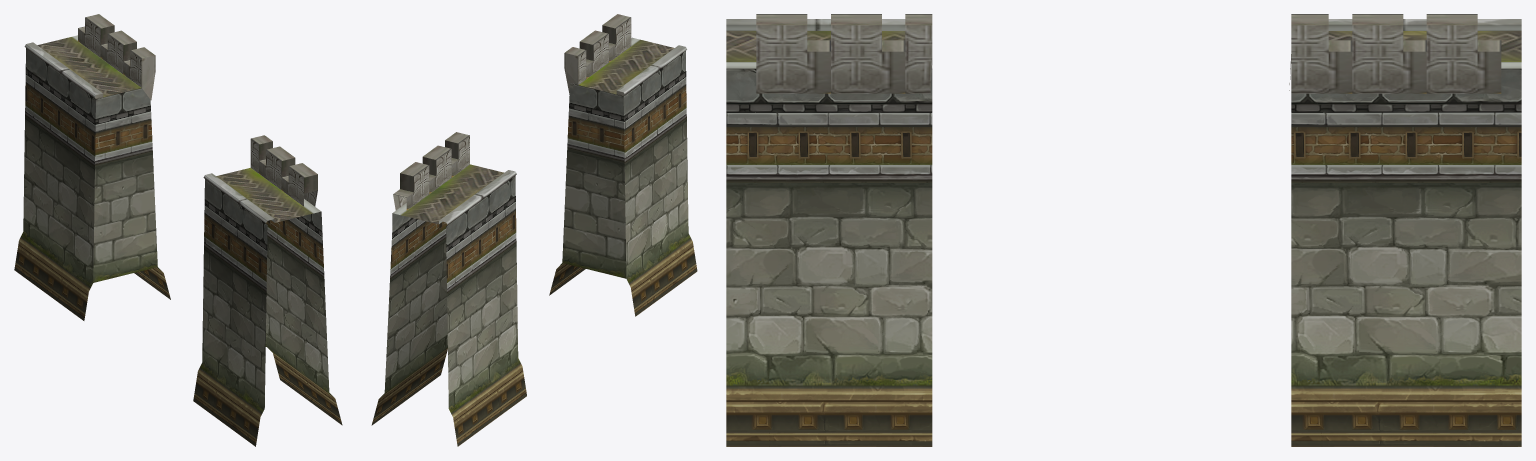
The model's file is DN_mcwall04a.FBX.
The picture shows the model from 3 angles, left to right: view 1: azimuth 30°, elevation 25°; view 2: azimuth 150°, elevation 25°; view 3: azimuth 270°, elevation 25°; orthographic projection. The views are drawn at different scales.
Parts seen in each view (by area): view 1: DN_mcwall04a; view 2: DN_mcwall04a; view 3: DN_mcwall04a.
Boxes of the visible parts, box(x1,y1,x2,y2) form: DN_mcwall04a: box(14, 14, 342, 446); DN_mcwall04a: box(371, 14, 697, 446); DN_mcwall04a: box(726, 14, 1521, 446).
Size of the model in its own units: 481 by 1315 by 2315.
